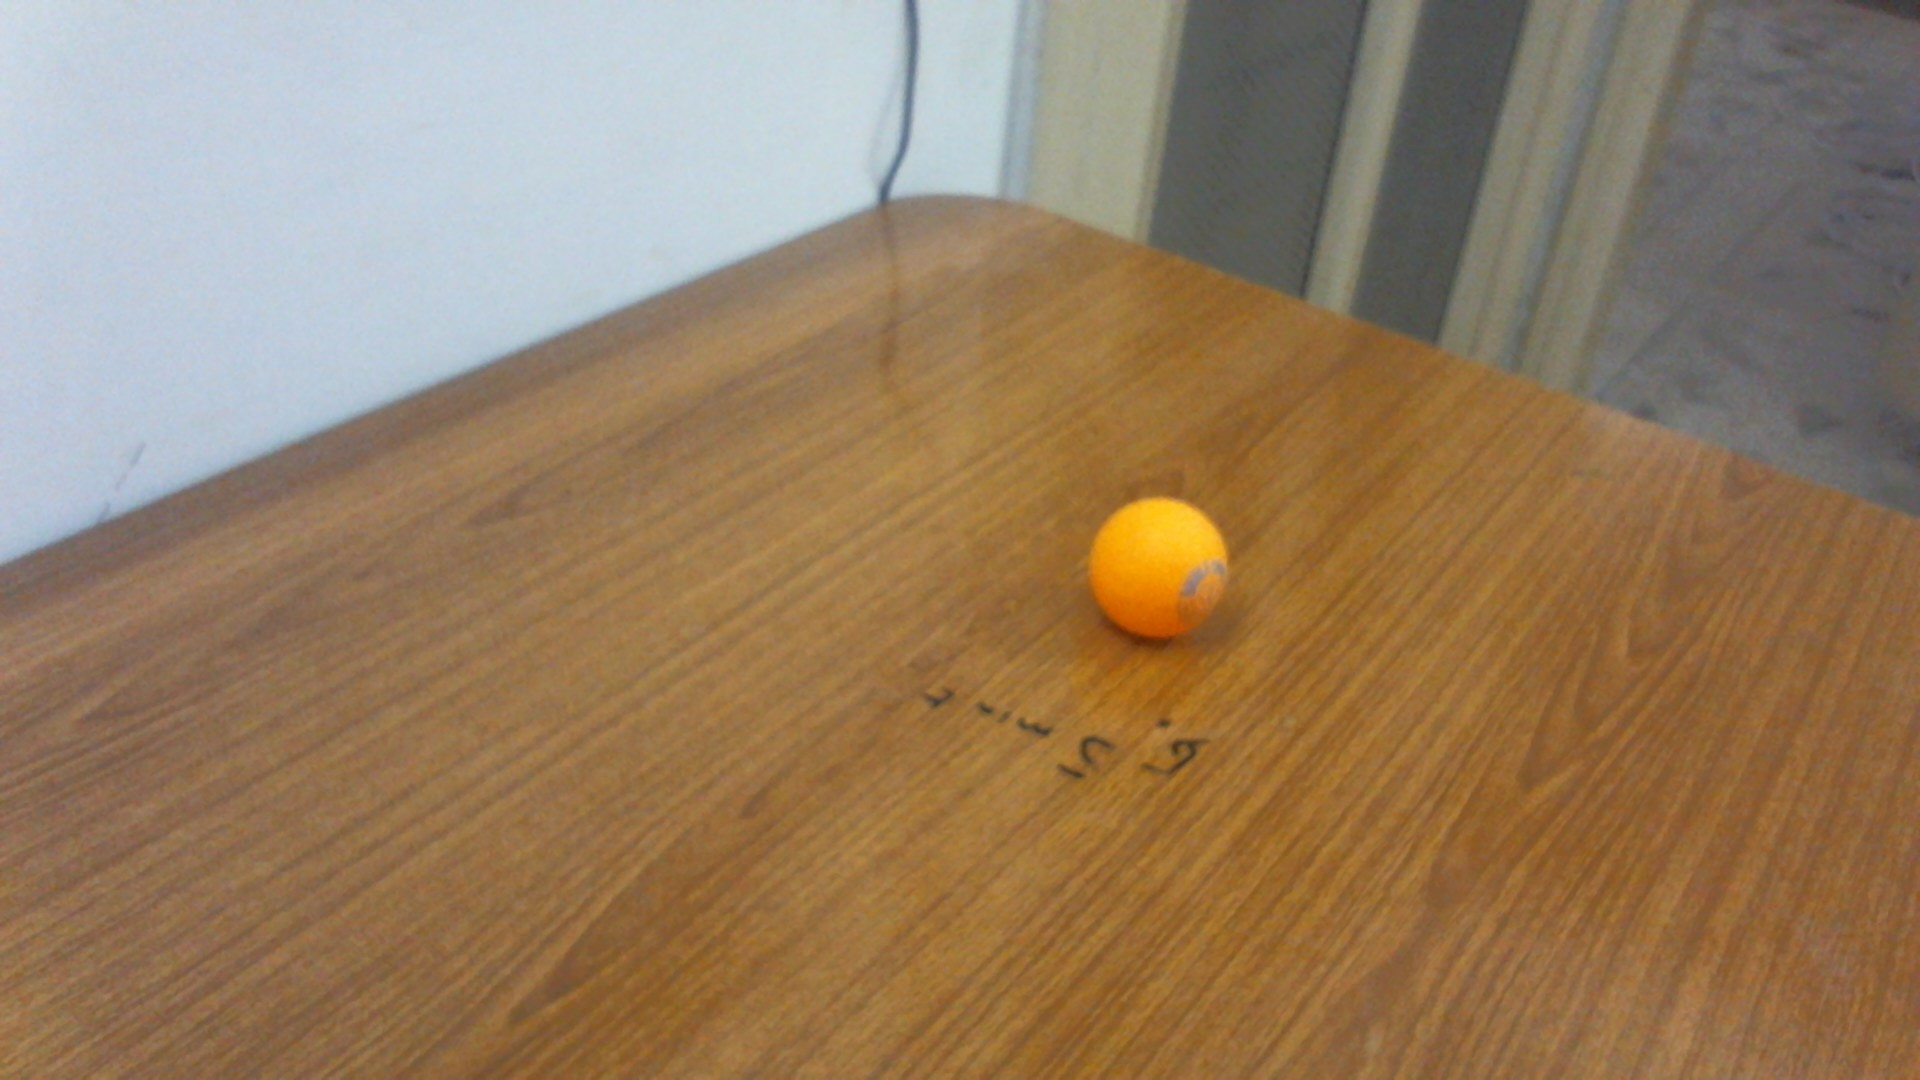ball: (1085, 495, 1232, 644)
